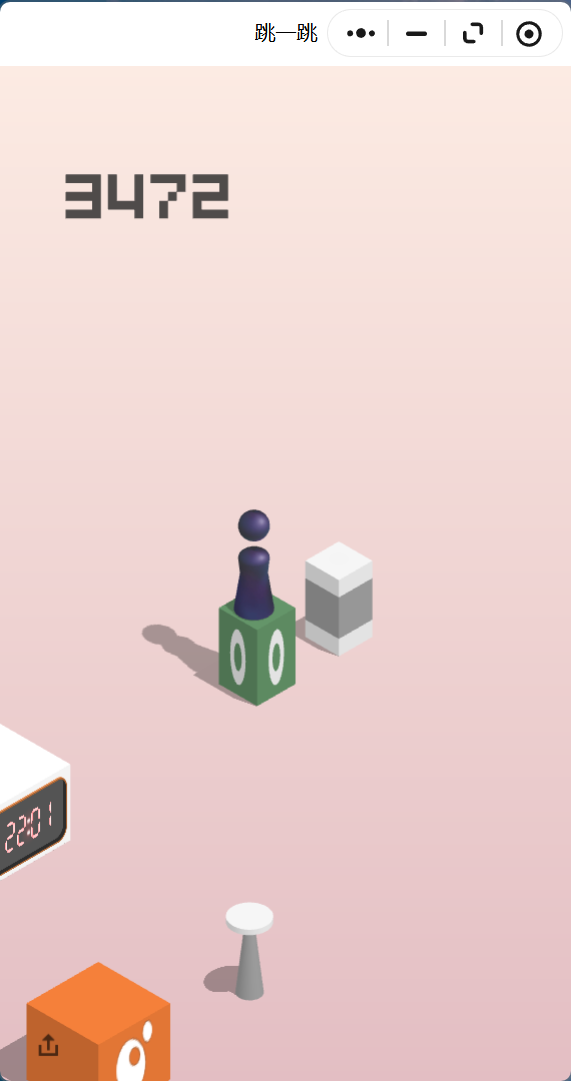piece: (238, 510, 269, 618)
target: (307, 541, 371, 582)
